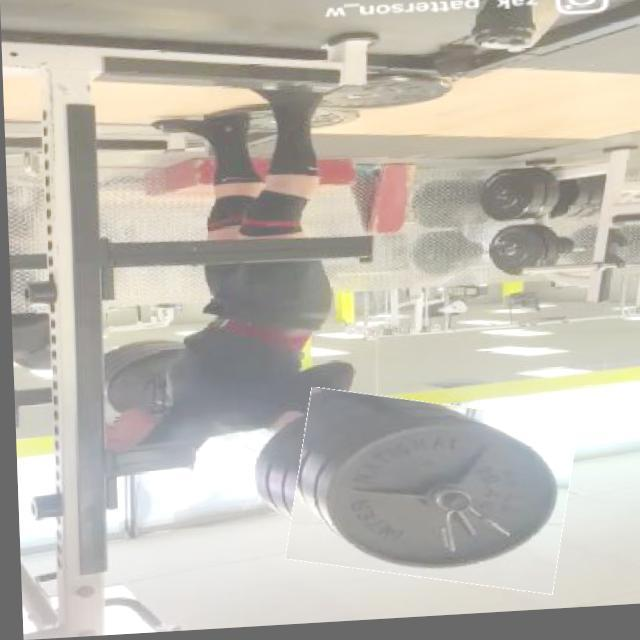barbell: (284, 392, 574, 602)
